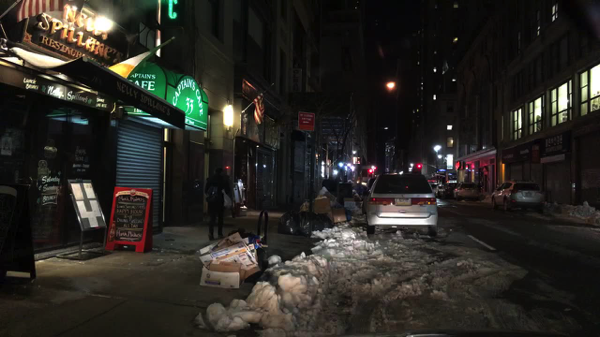car: (362, 172, 439, 236), (487, 178, 545, 214), (452, 181, 480, 202), (440, 181, 459, 198), (367, 178, 376, 193), (433, 185, 443, 198)
person: (204, 166, 237, 241)
traffic light: (415, 162, 422, 169), (367, 169, 373, 174)
traffic sign: (297, 111, 316, 132)
